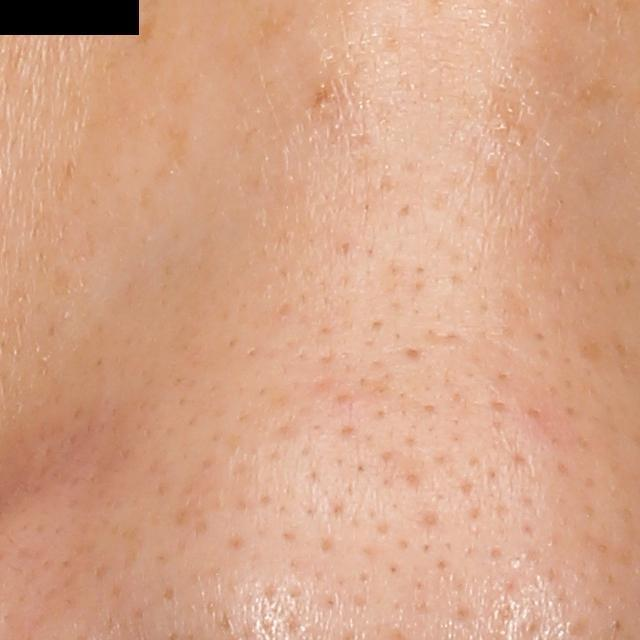melasma: (131, 10, 161, 50)
